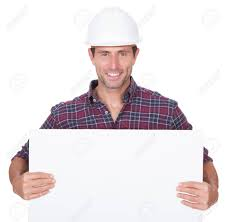Person_wearing_helmet: (87, 4, 144, 60)
